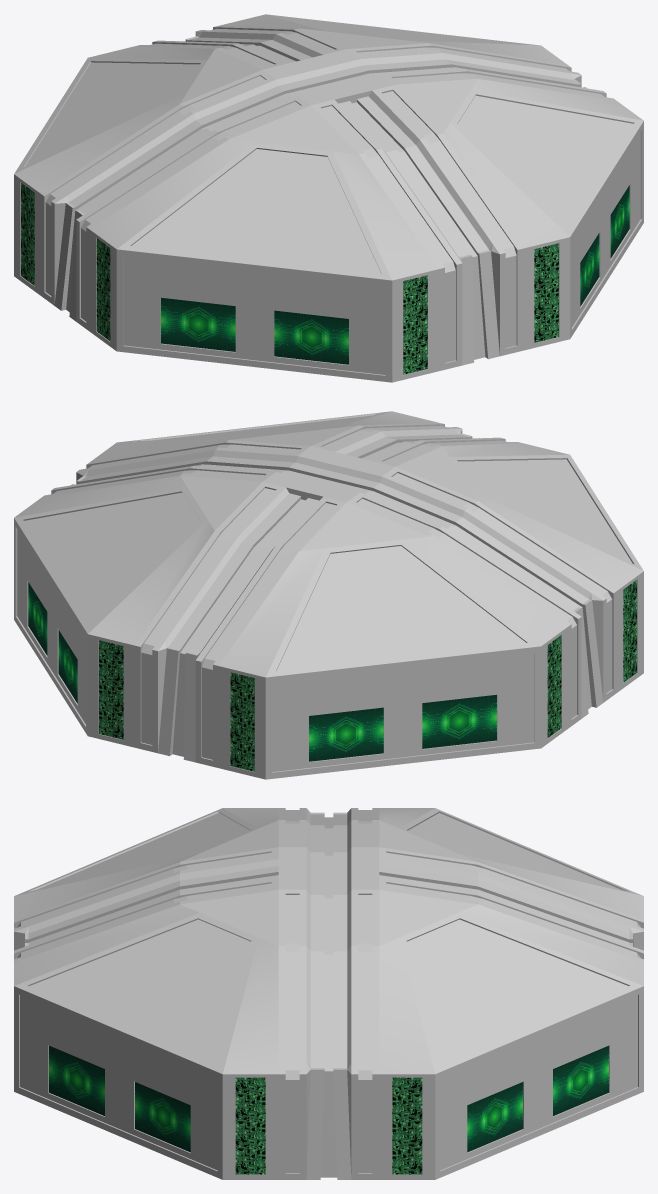
File: Lobby.dae
The picture shows the model from 3 angles, top to bottom: view 1: azimuth 30°, elevation 25°; view 2: azimuth 150°, elevation 25°; view 3: azimuth 270°, elevation 25°; orthographic projection. The views are drawn at different scales.
Parts seen in each view (by area): view 1: instance_20 (×4), instance_21 (×4), group_3 (×8), instance_18 (×3), group_4 (×8), instance_19 (×3), instance_2 (×3), instance_15 (×4), instance_10 (×3), instance_17 (×2), instance_9 (×3), instance_3 (×2) (+2 smaller); view 2: instance_18 (×4), instance_10 (×4), group_3 (×8), instance_20 (×3), group_4 (×8), instance_7 (×3), instance_2 (×3), instance_15 (×4), instance_21 (×3), instance_17 (×2), instance_9 (×3), instance_3 (×2) (+2 smaller); view 3: instance_10 (×4), instance_21 (×4), group_3 (×8), group_4 (×8), instance_3 (×3), instance_15 (×4), instance_18 (×3), instance_20 (×3), instance_16 (×2), instance_7 (×3), instance_19 (×3), instance_9 (×4) (+1 smaller).
Boxes of the visible parts, bbox=[...] form: instance_20 (×4): bbox=[89, 105, 438, 382]; instance_21 (×4): bbox=[396, 78, 643, 350]; group_3 (×8): bbox=[41, 25, 616, 370]; instance_18 (×3): bbox=[14, 46, 261, 295]; group_4 (×8): bbox=[44, 27, 606, 363]; instance_19 (×3): bbox=[339, 91, 499, 365]; instance_2 (×3): bbox=[54, 80, 292, 321]; instance_15 (×4): bbox=[161, 185, 629, 364]; instance_10 (×3): bbox=[220, 14, 567, 65]; instance_17 (×2): bbox=[403, 243, 558, 374]; instance_9 (×3): bbox=[263, 49, 394, 105]; instance_3 (×2): bbox=[360, 53, 581, 87]; instance_18 (×4): bbox=[219, 502, 568, 779]; instance_10 (×4): bbox=[14, 475, 261, 747]; group_3 (×8): bbox=[41, 422, 616, 767]; instance_20 (×3): bbox=[396, 443, 643, 692]; group_4 (×8): bbox=[51, 424, 613, 760]; instance_7 (×3): bbox=[158, 488, 318, 762]; instance_2 (×3): bbox=[365, 477, 603, 718]; instance_15 (×4): bbox=[28, 582, 496, 761]; instance_21 (×3): bbox=[90, 411, 437, 462]; instance_17 (×2): bbox=[99, 640, 254, 771]; instance_9 (×3): bbox=[263, 446, 394, 502]; instance_3 (×2): bbox=[76, 450, 297, 484]; instance_10 (×4): bbox=[379, 890, 643, 1179]; instance_21 (×4): bbox=[14, 890, 278, 1179]; group_3 (×8): bbox=[14, 808, 643, 1179]; group_4 (×8): bbox=[14, 810, 643, 1173]; instance_3 (×3): bbox=[306, 890, 351, 1179]; instance_15 (×4): bbox=[49, 1045, 608, 1152]; instance_18 (×3): bbox=[379, 808, 643, 919]; instance_20 (×3): bbox=[14, 808, 278, 919]; instance_16 (×2): bbox=[235, 1077, 422, 1174]; instance_7 (×3): bbox=[379, 859, 643, 950]; instance_19 (×3): bbox=[14, 859, 278, 950]; instance_9 (×4): bbox=[278, 847, 379, 894].
Bounding box in the file's own units: 1081 × 1081 × 337.
